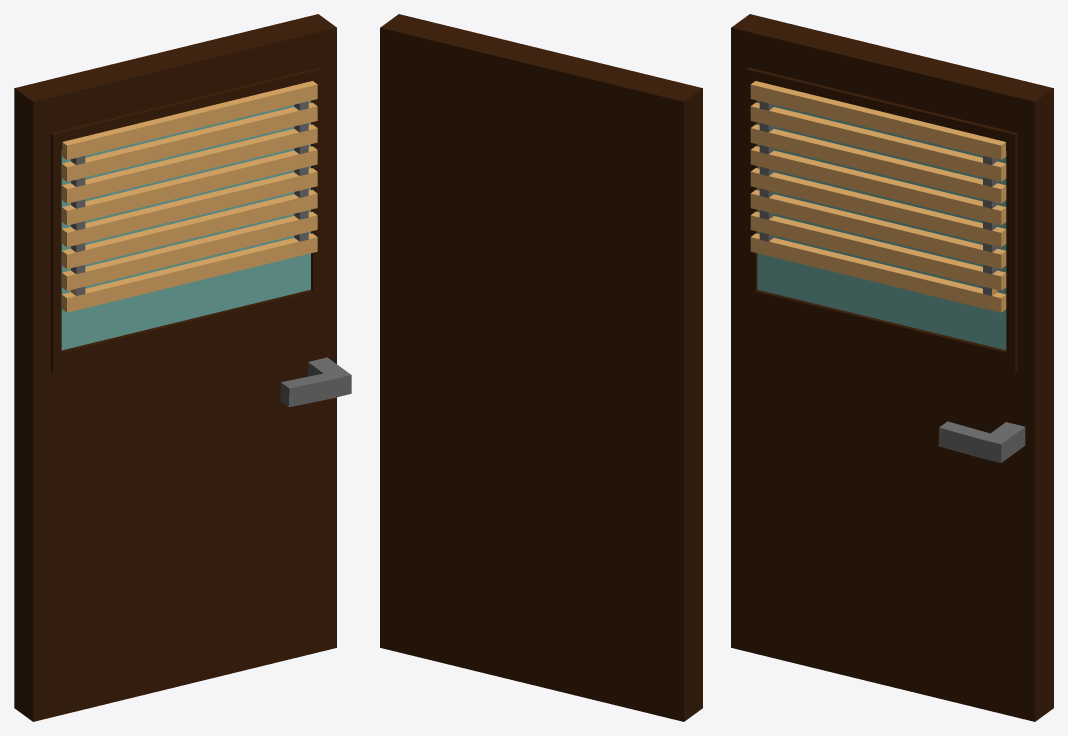
The model's file is puerta.fbx.
3 renders of one model, left to right at view 1: azimuth 30°, elevation 25°; view 2: azimuth 150°, elevation 25°; view 3: azimuth 330°, elevation 25°, orthographic.
Parts seen in each view (by area): view 1: Puerta; view 2: Puerta; view 3: Puerta.
Boxes of the visible parts, bbox=[...] form: Puerta: bbox=[14, 14, 351, 721]; Puerta: bbox=[380, 14, 702, 721]; Puerta: bbox=[731, 14, 1053, 721].
Size of the model in its own units: 323 by 630 by 78.96.
